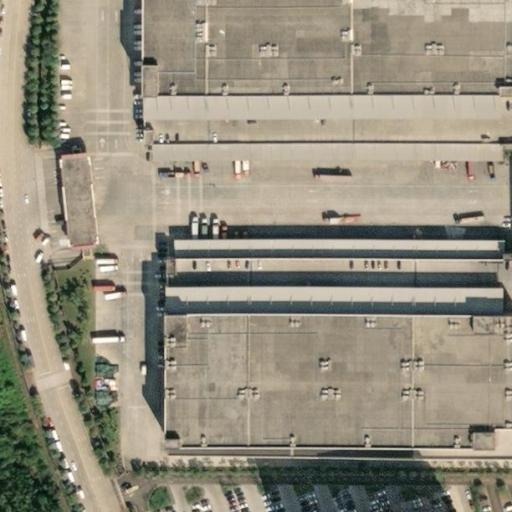building: (157, 251, 512, 443), (140, 74, 512, 138), (58, 152, 99, 246), (395, 496, 450, 512)
